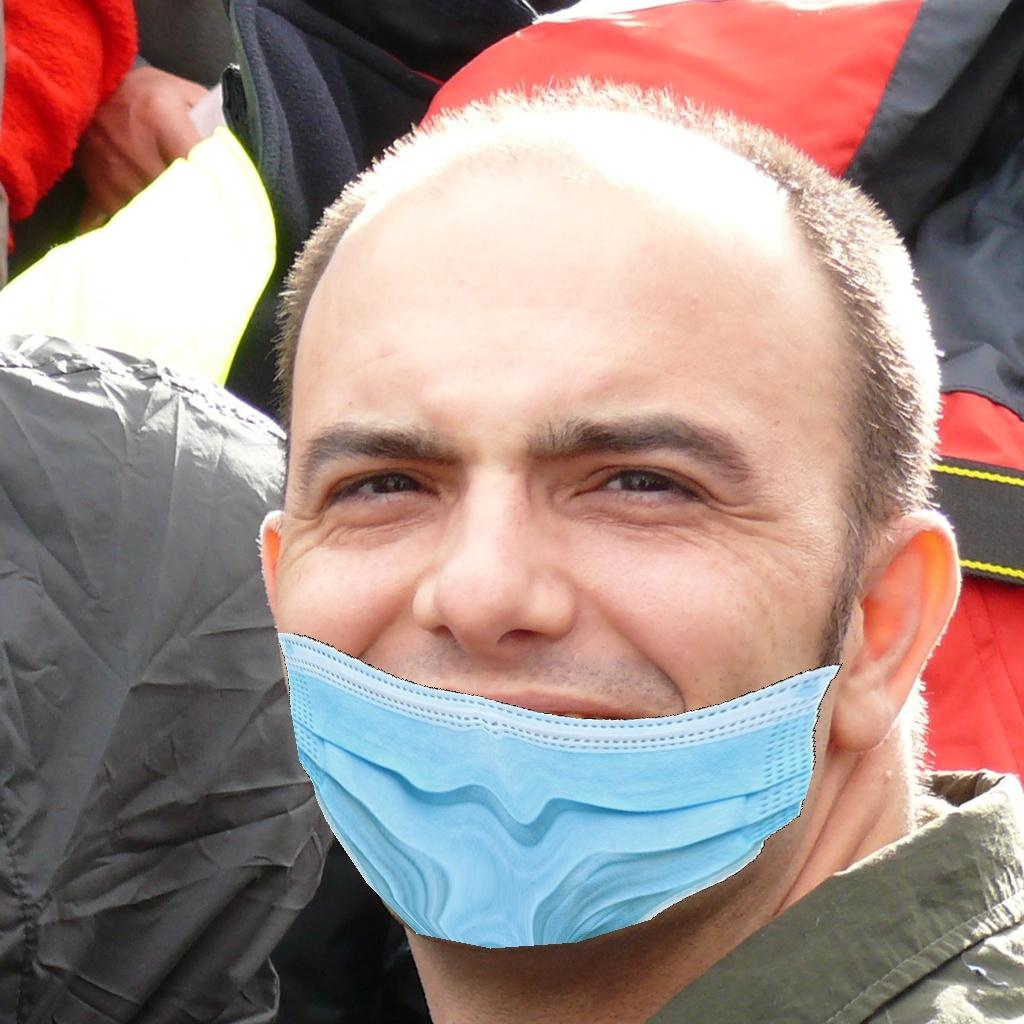Máscara Incorreta: (273, 298, 832, 924)
